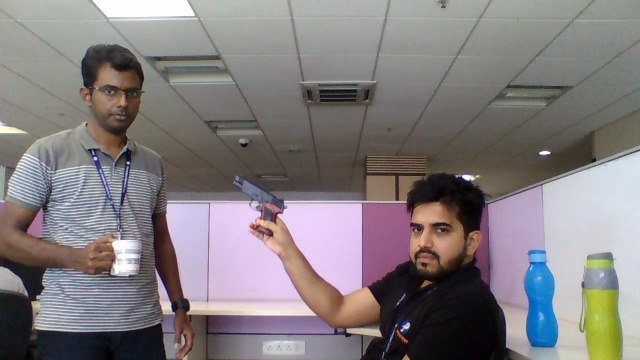gun: (229, 172, 287, 216)
